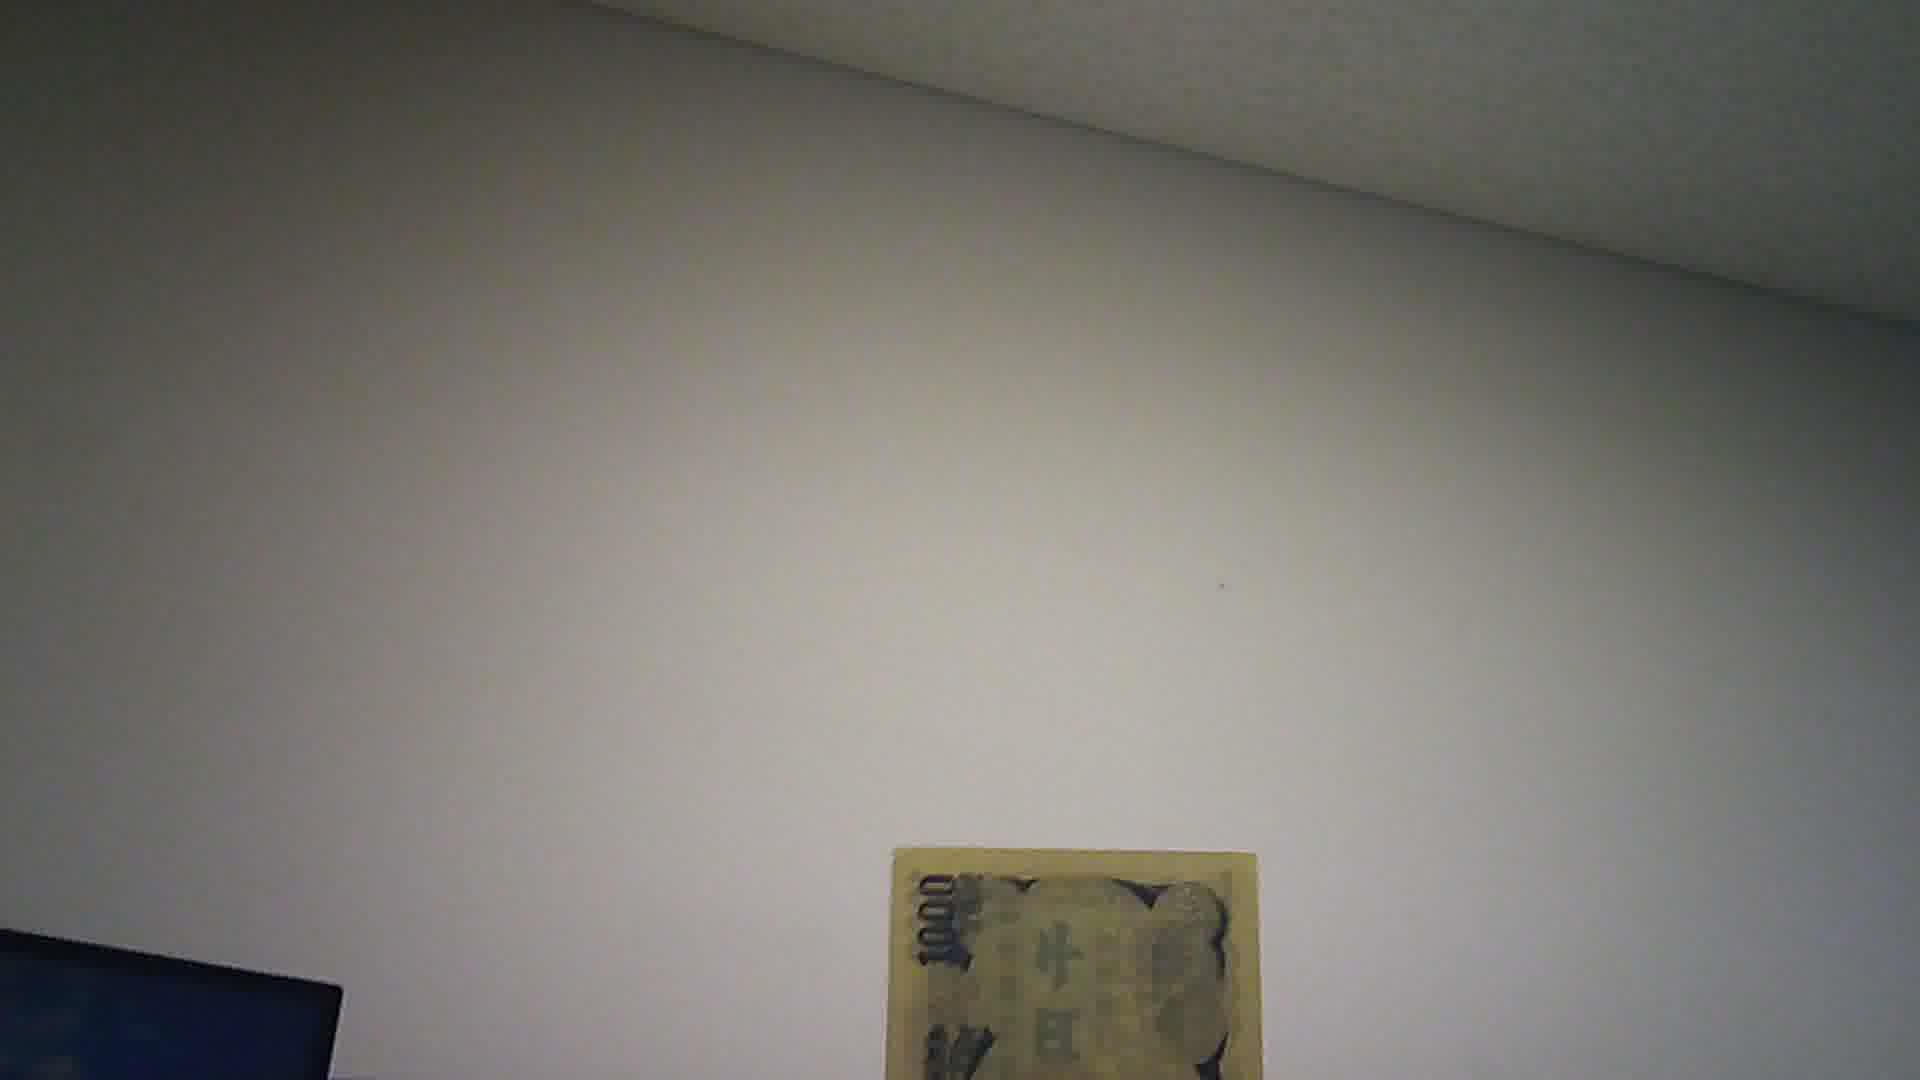1,000 Yen: (880, 837, 1258, 1079)
